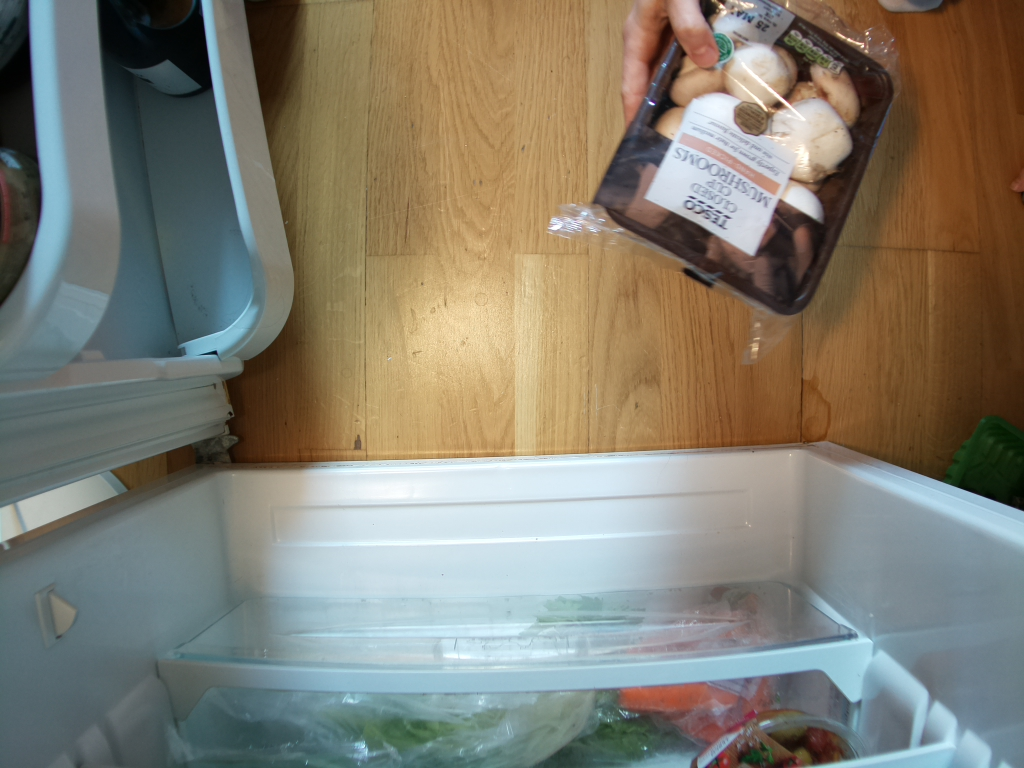mushrooms: (592, 1, 901, 323)
